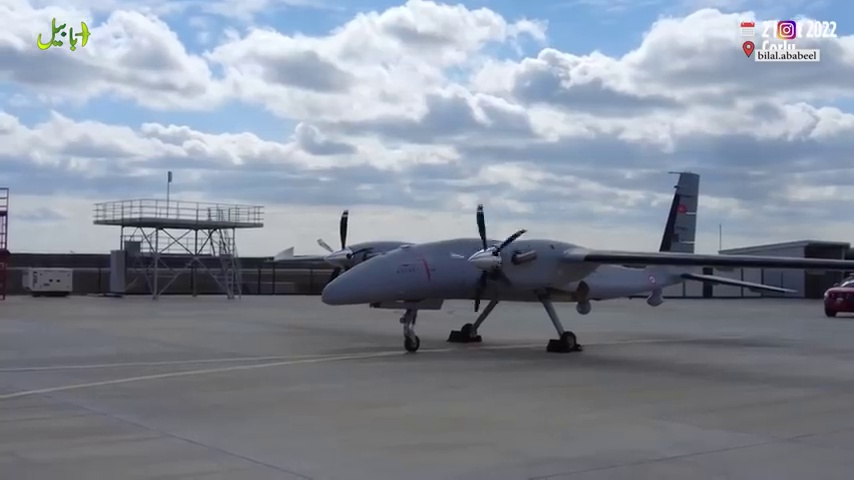military drone: (264, 171, 854, 351)
